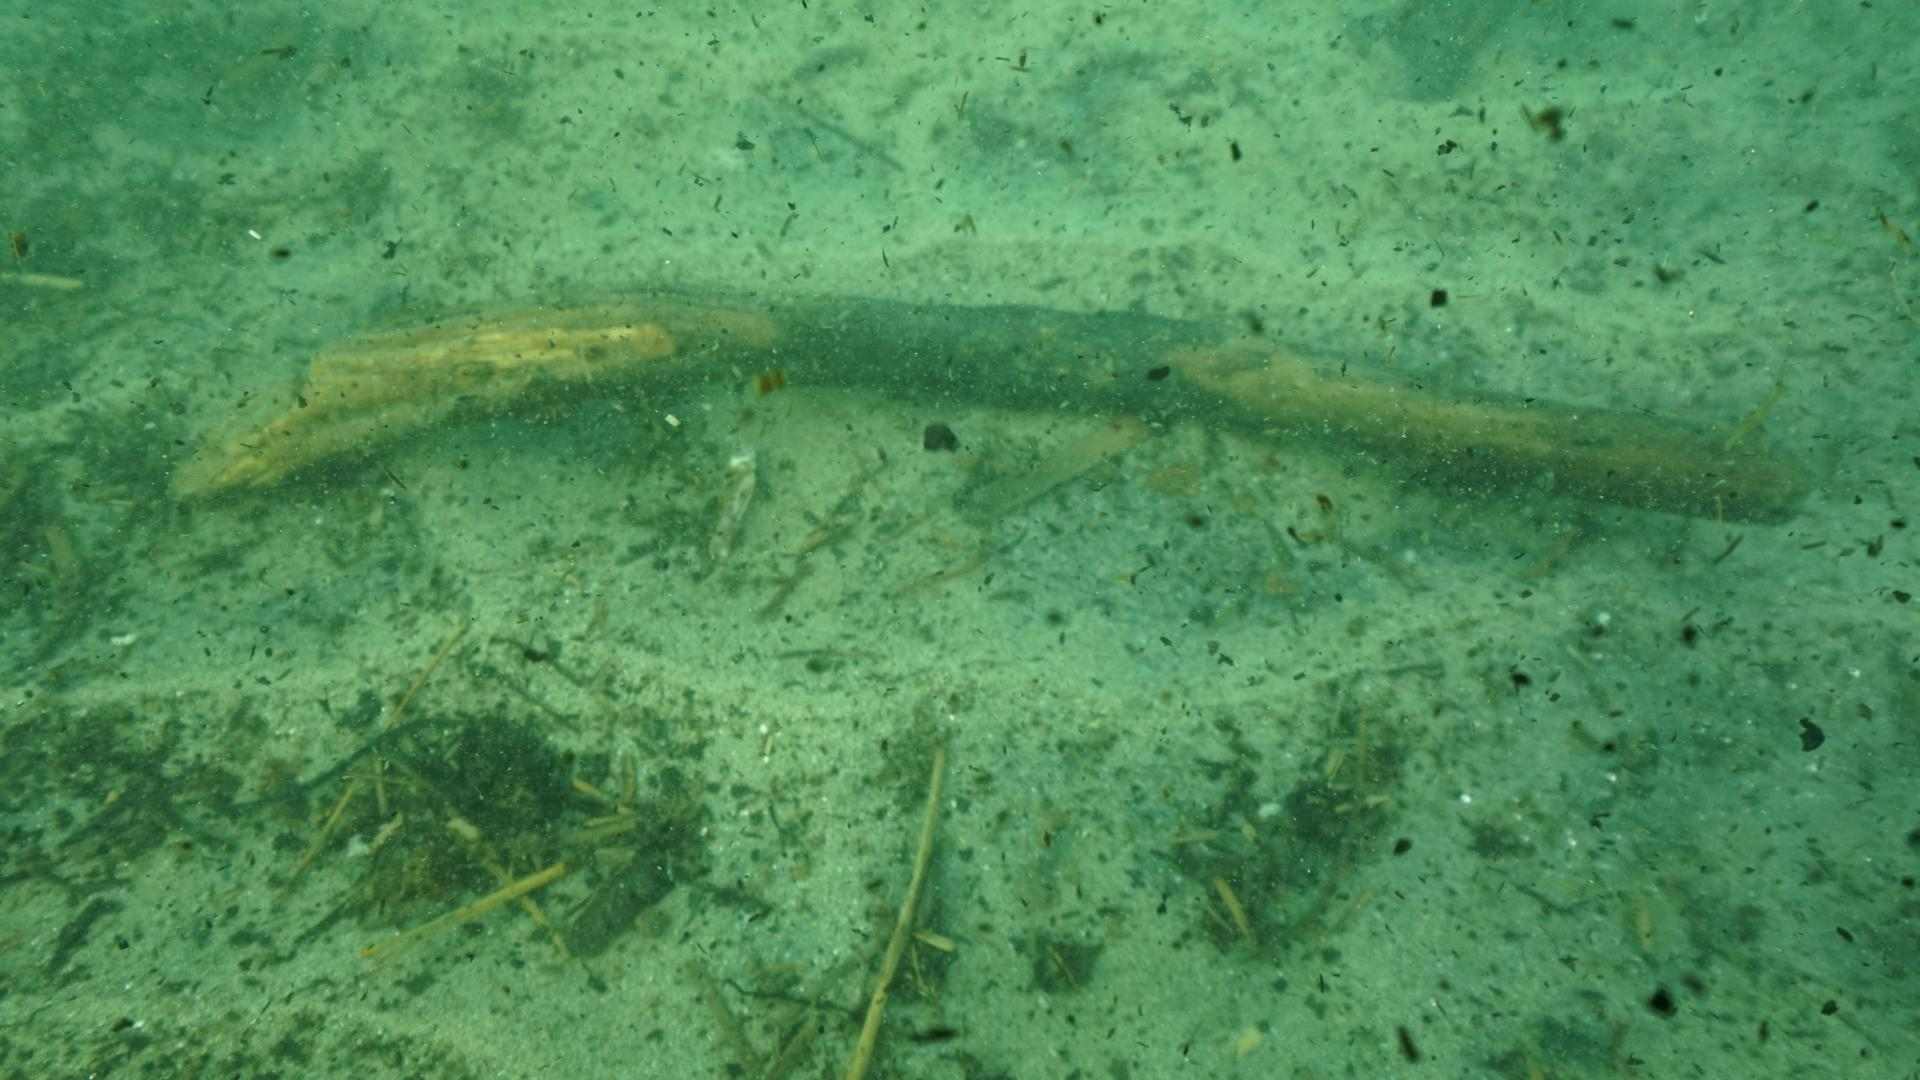wood: (167, 276, 1812, 527)
